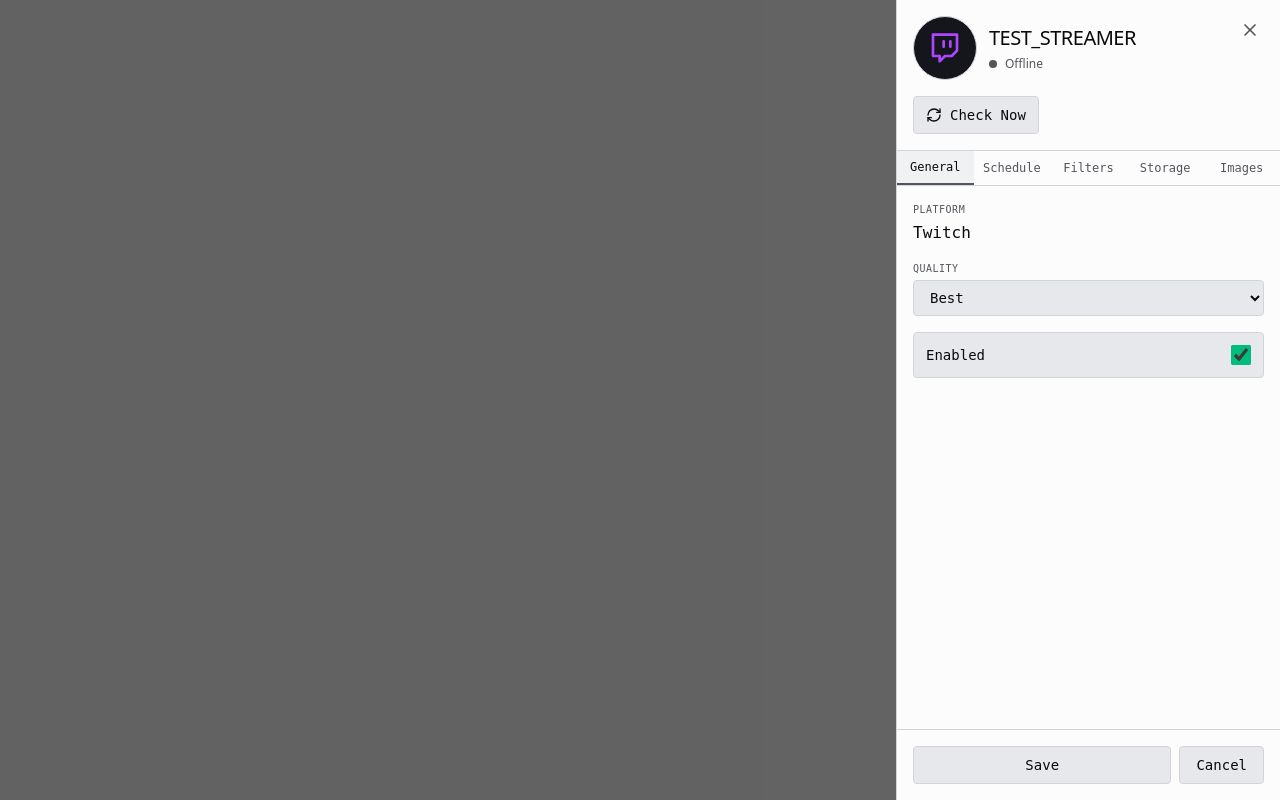
Test case: ChannelDetailPanel › tab system › switching to Schedule tab shows schedule fields
Click the button "Schedule" at (1012, 168), box [974,151,1050,185]
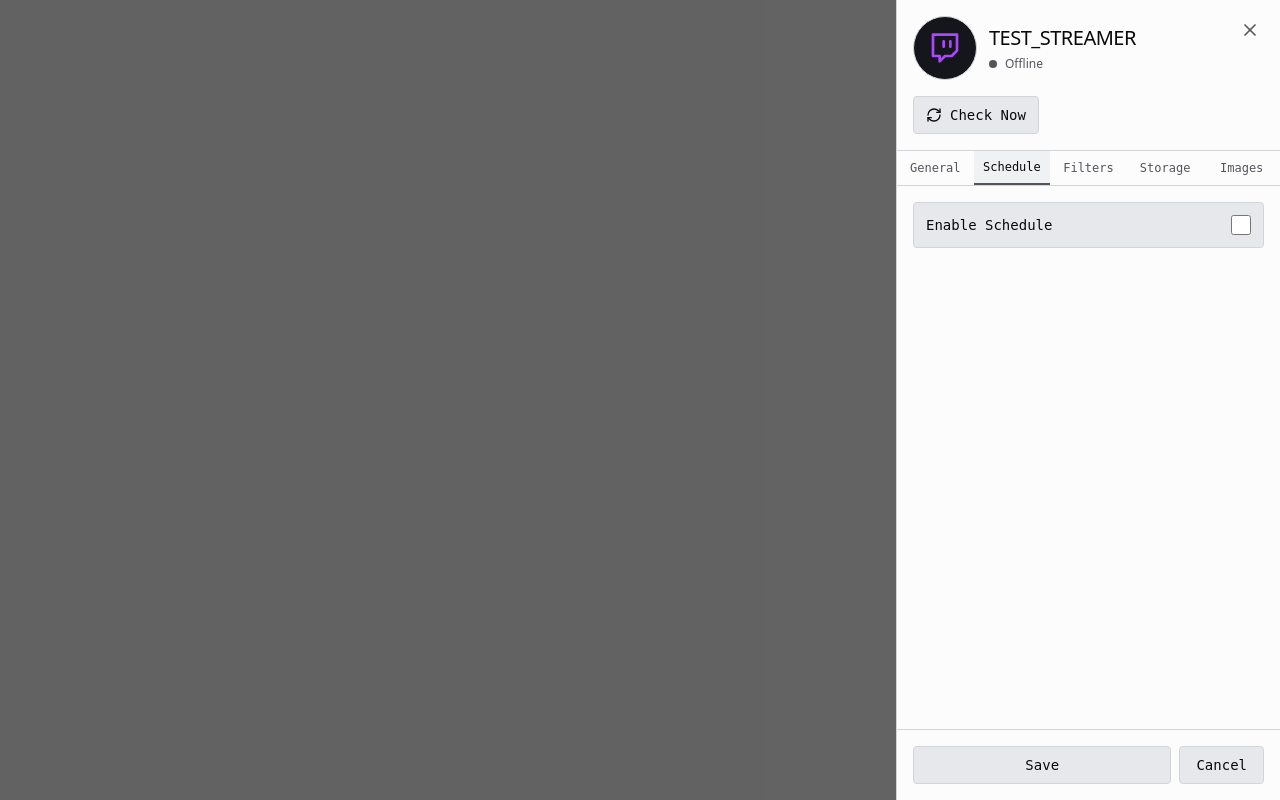
Now the text "Enable Schedule" is shown, box [926,215,1052,235]
